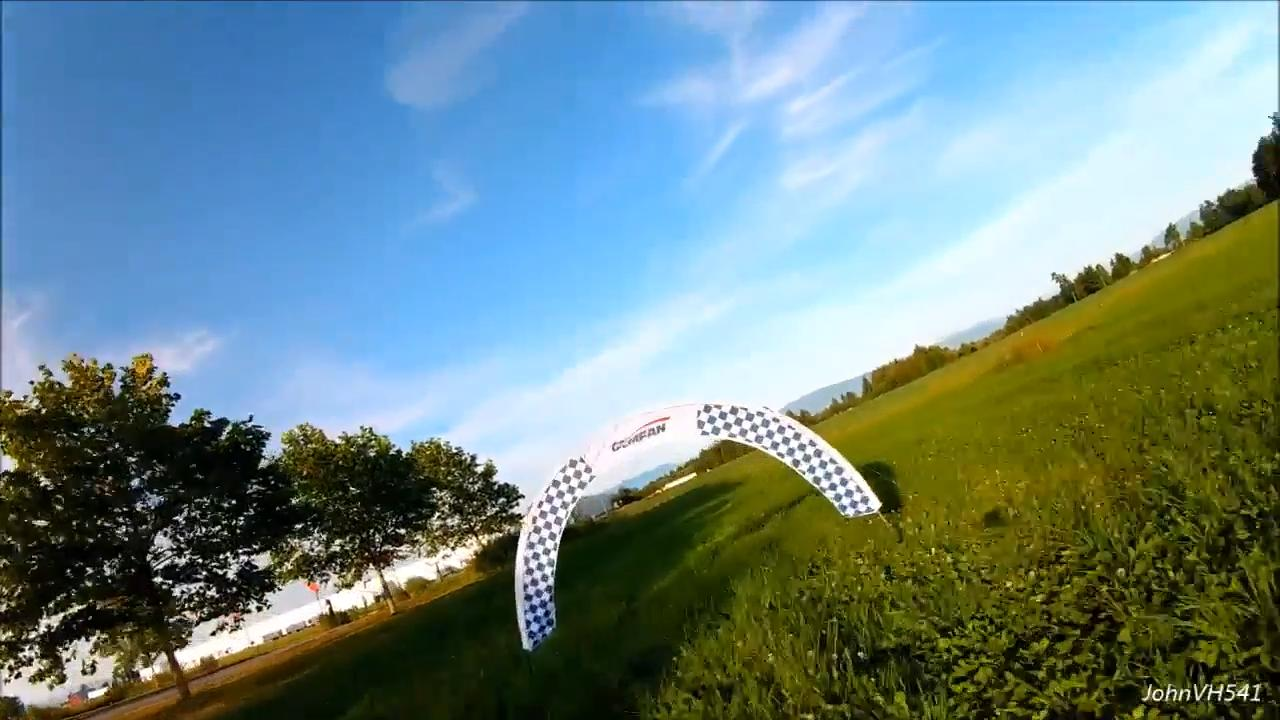gate: (506, 394, 891, 652)
